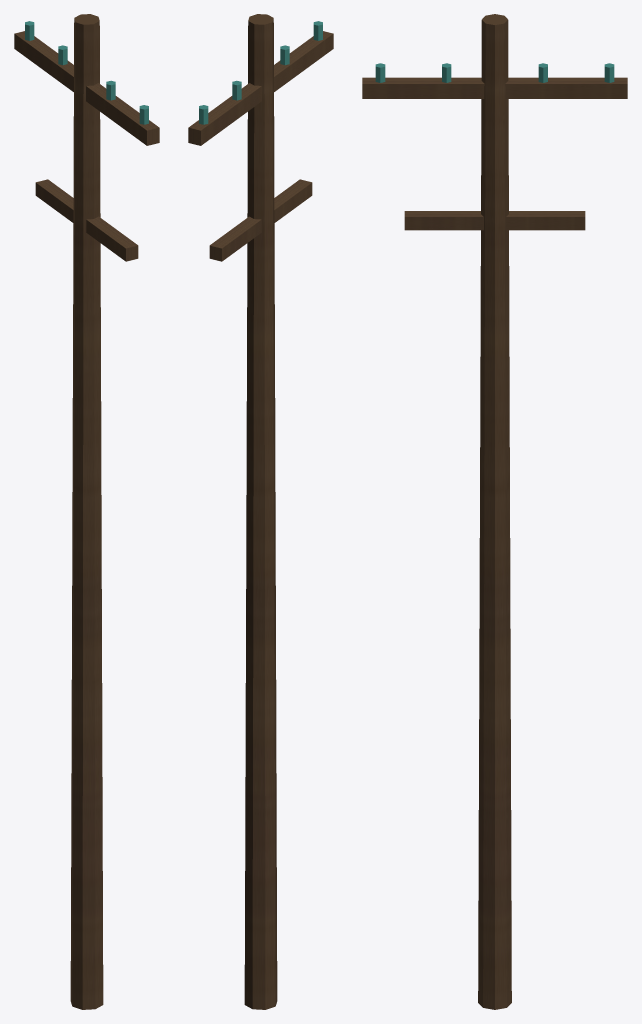
Rendered from pole.obj.
The picture shows the model from 3 angles, left to right: view 1: azimuth 30°, elevation 25°; view 2: azimuth 150°, elevation 25°; view 3: azimuth 270°, elevation 25°; orthographic projection.
Parts seen in each view (by area): view 1: pole; view 2: pole; view 3: pole.
Boxes of the visible parts, box(x1,y1,x2,y2) form: pole: box(14, 14, 159, 1009); pole: box(188, 14, 333, 1009); pole: box(362, 14, 627, 1009).
Size of the model in its own units: 0.28 by 9 by 2.2.
Materials: 2 (1 with a texture image).
